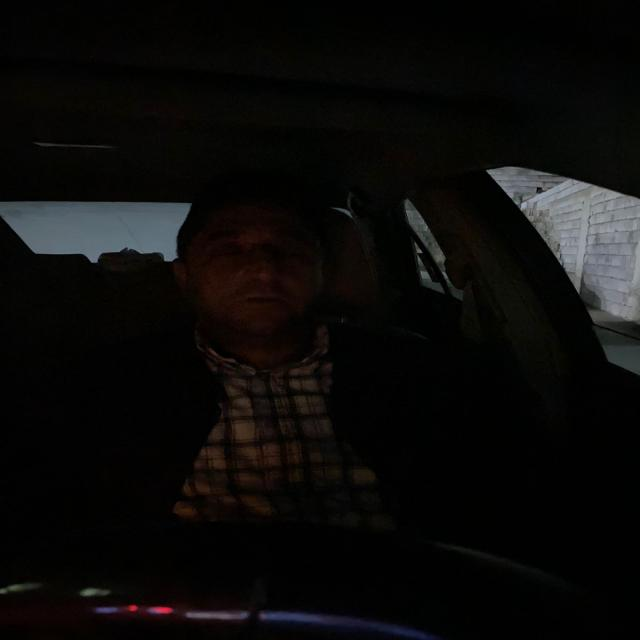drowsy: (168, 187, 344, 355)
